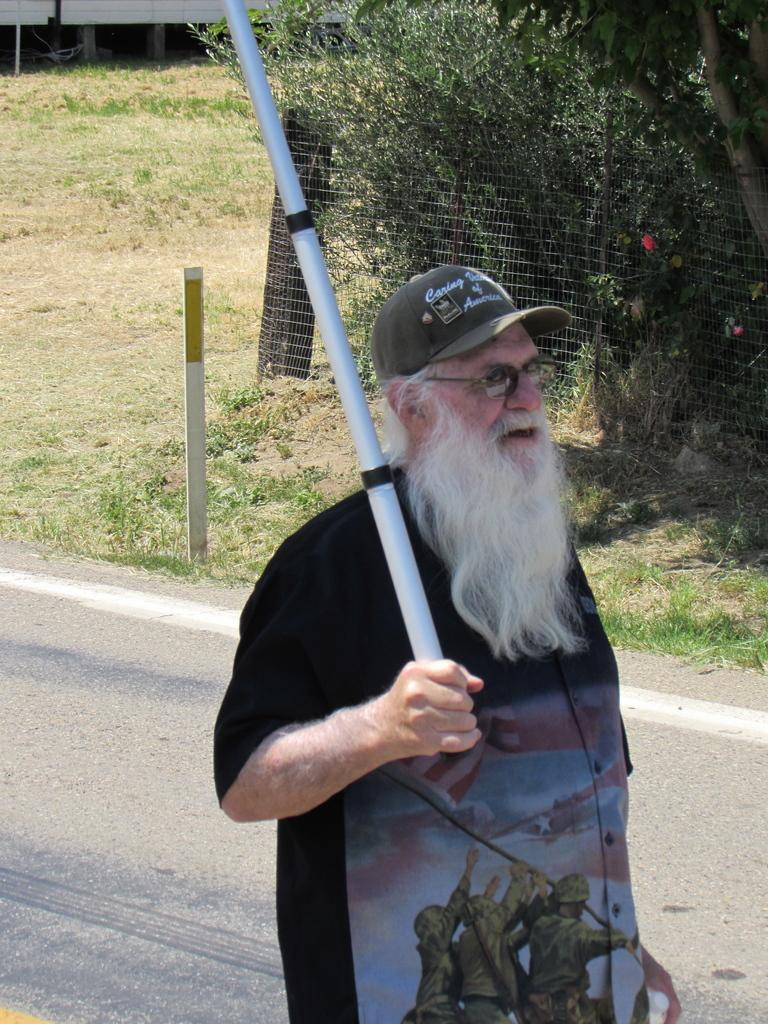Hat: (366, 263, 570, 389)
